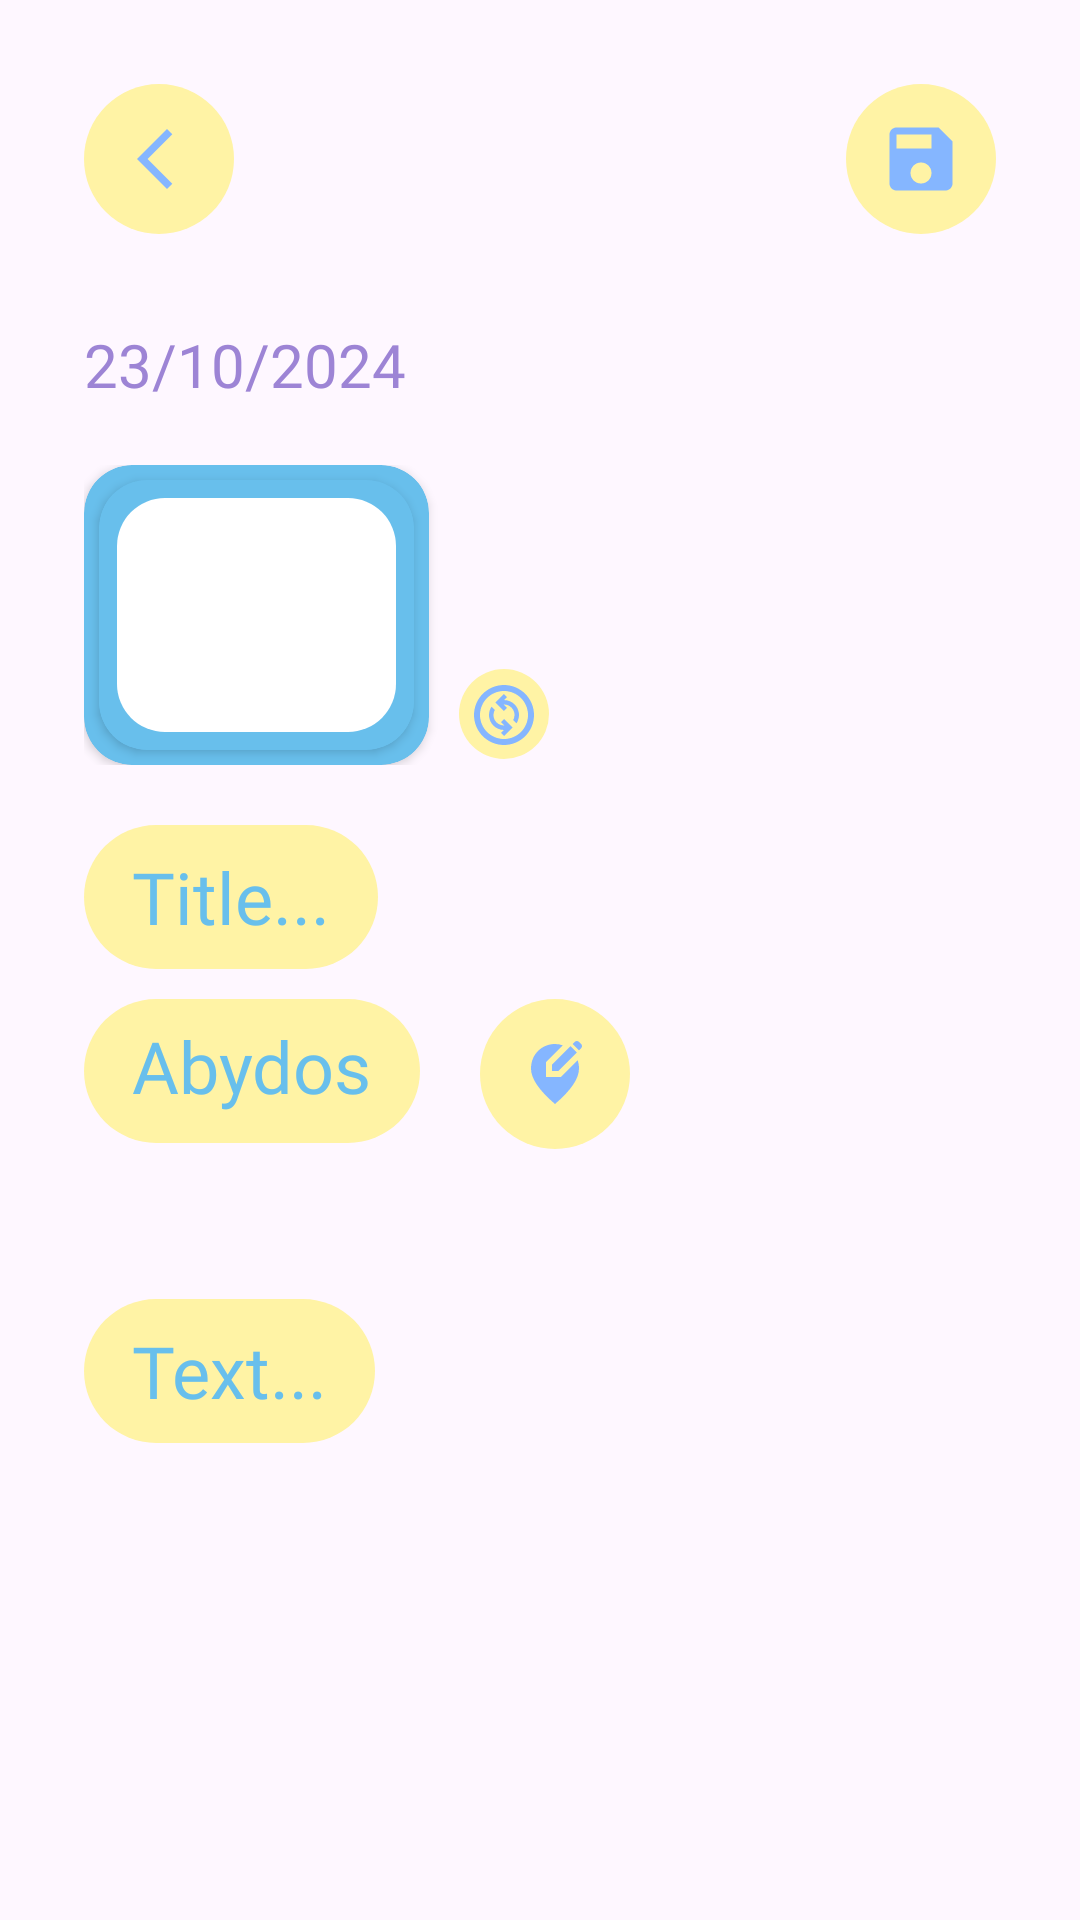

Icons on this 1080px x 1920px Android screen, each with its box as (left=x1, top=y1, right=x2, bottom=y2):
back: (left=84, top=84, right=234, bottom=234)
change: (left=459, top=669, right=549, bottom=759)
location edit: (left=480, top=999, right=630, bottom=1149)
save: (left=846, top=84, right=996, bottom=234)
